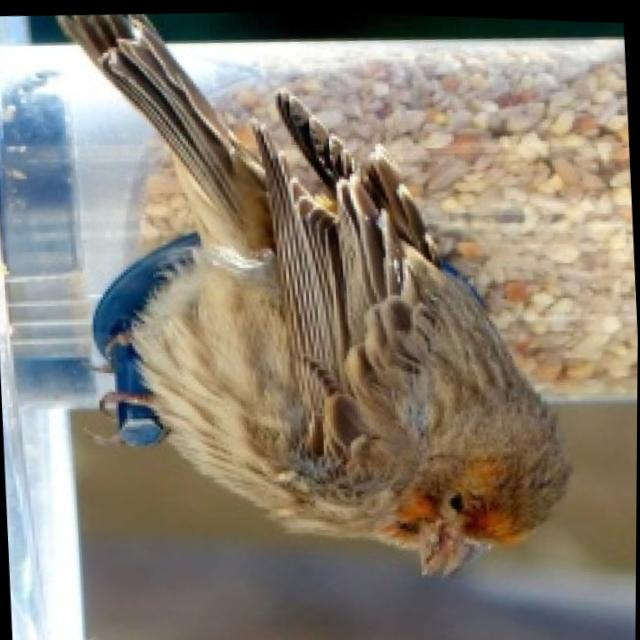sparrow: (52, 2, 584, 604)
